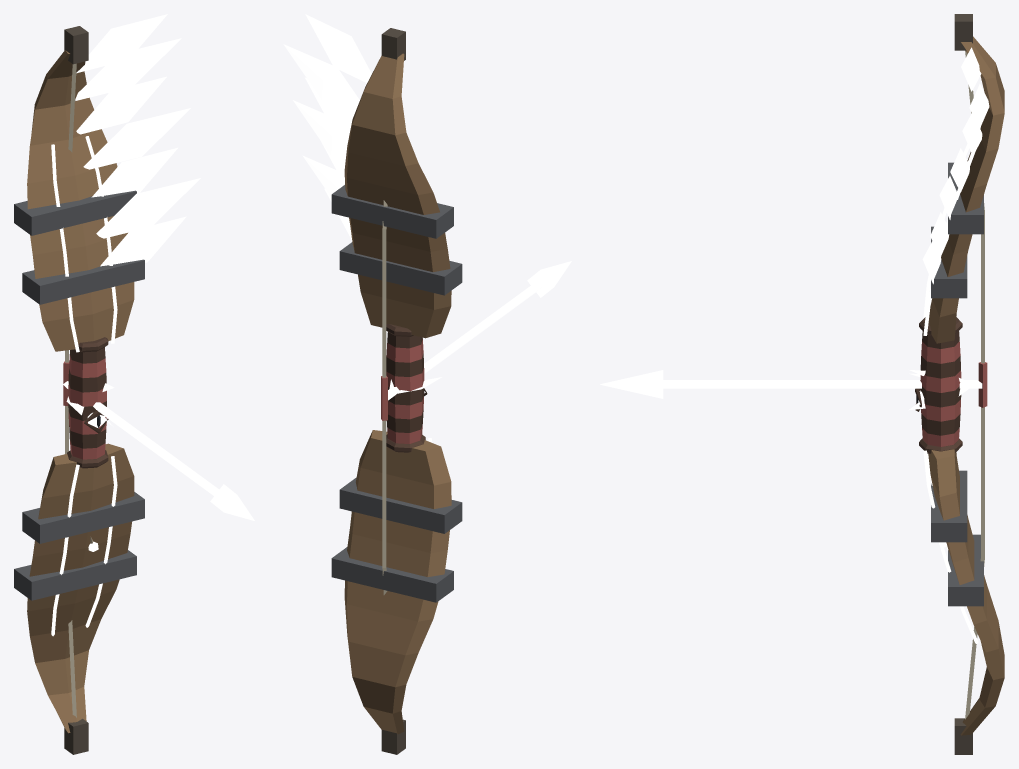
The model's file is bow-volley.glb.
3 renders of one model, left to right at view 1: azimuth 30°, elevation 25°; view 2: azimuth 150°, elevation 25°; view 3: azimuth 270°, elevation 25°, orthographic. The views are drawn at different scales.
Parts seen in each view (by area): view 1: bow-volley, pulse_vein, pulse_arrow, string; view 2: bow-volley, pulse_arrow, string; view 3: bow-volley, pulse_arrow, string, pulse_vein.
Part boxes in pixels (box(x1,y1,x2,y2)): bow-volley: box(14, 14, 200, 754); pulse_vein: box(51, 136, 117, 636); pulse_arrow: box(63, 381, 254, 520); string: box(63, 63, 76, 717); bow-volley: box(283, 14, 462, 754); pulse_arrow: box(388, 261, 571, 400); string: box(381, 200, 387, 594); bow-volley: box(919, 14, 1004, 754); pulse_arrow: box(600, 370, 982, 410); string: box(965, 50, 987, 719); pulse_vein: box(923, 144, 978, 643).
Bounding box in the file's own units: 0.3565 × 1.52 × 0.7613.
